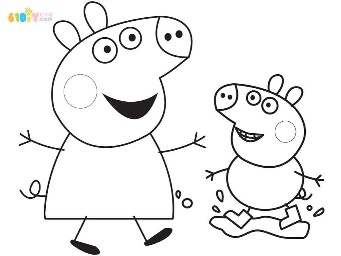Peppa: (16, 1, 207, 256)
